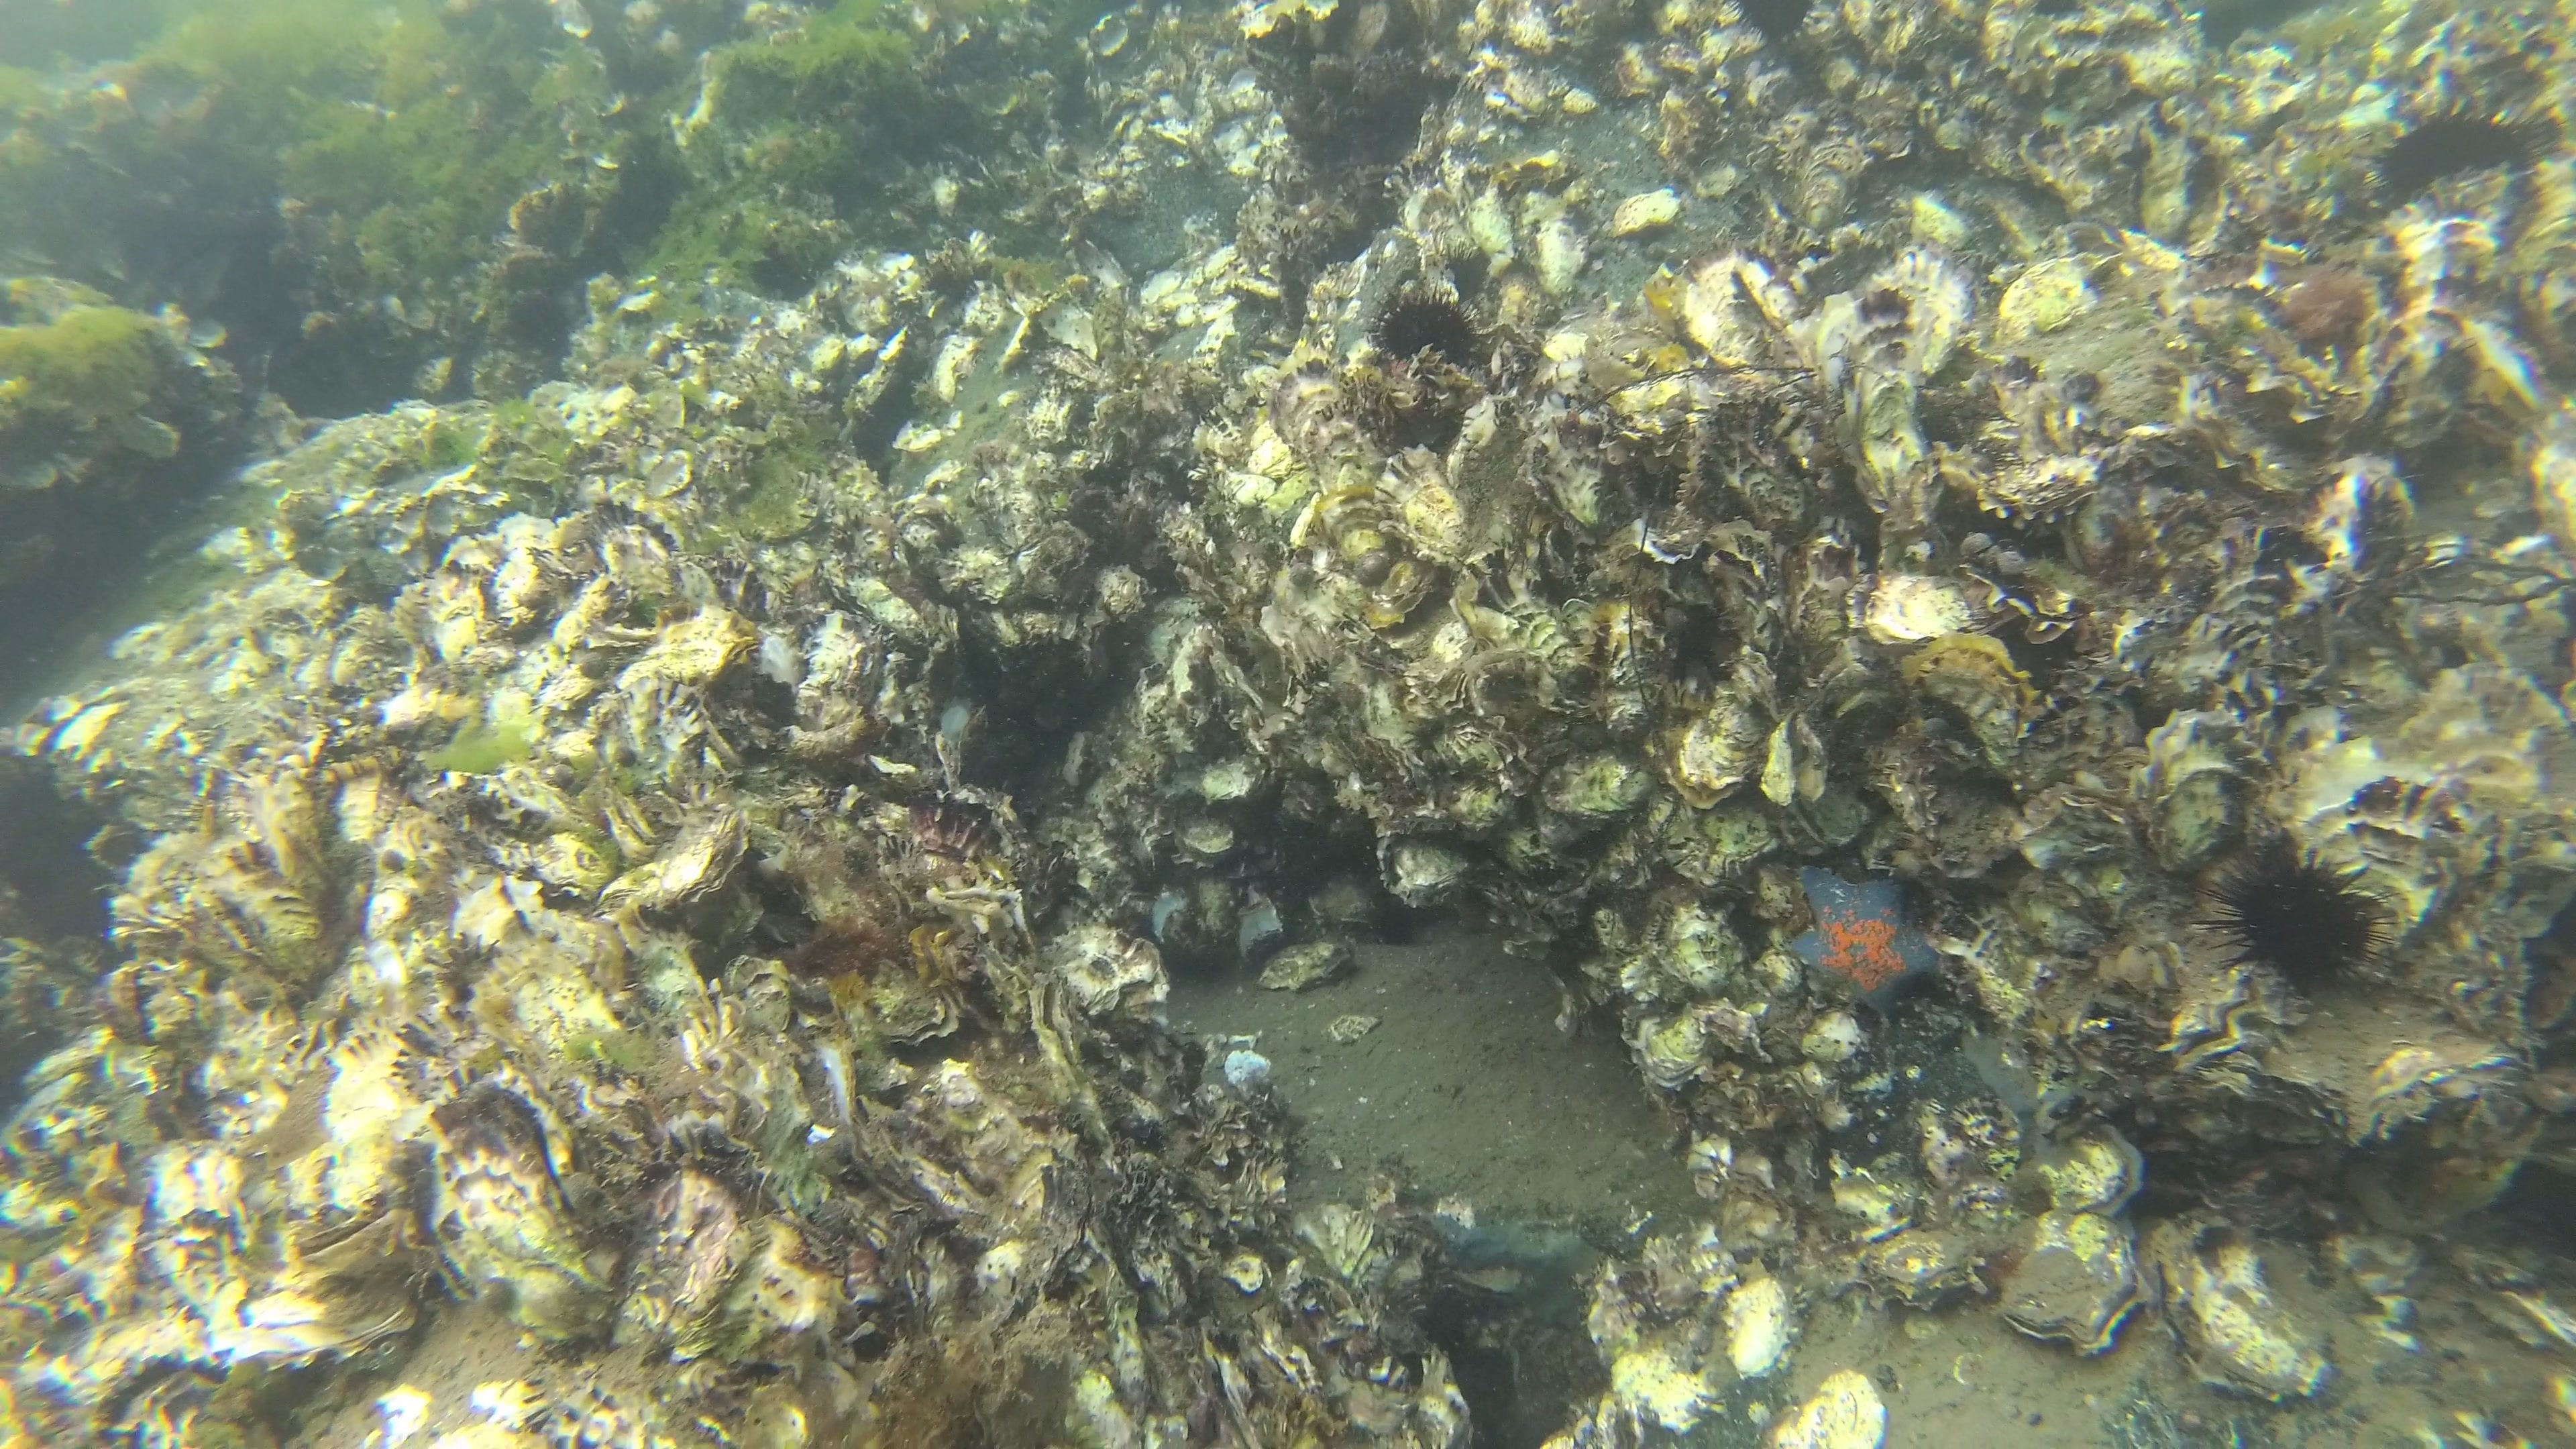echinus: (2219, 844, 2397, 1000), (1368, 287, 1484, 377)
starfish: (1771, 855, 1950, 1030)
